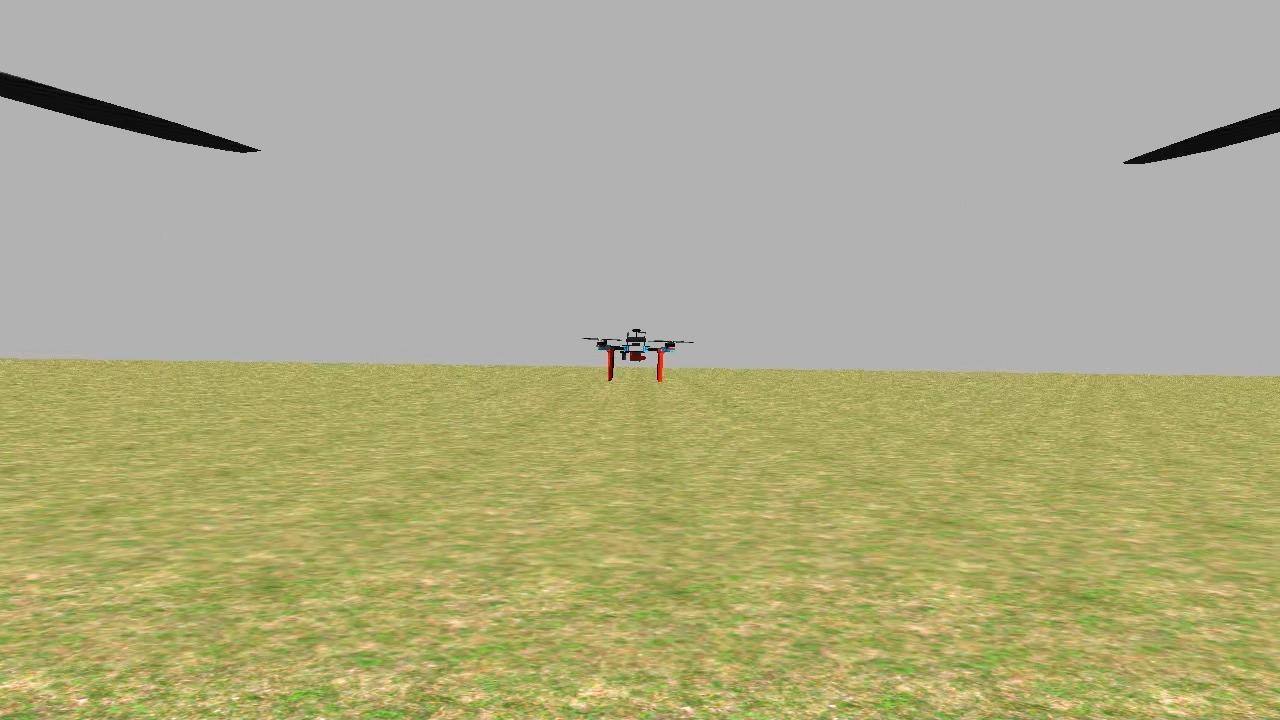UAV: (584, 318, 684, 388)
